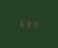eight: (25, 19, 30, 28)
nine: (31, 20, 36, 28)
six: (18, 19, 23, 27)
